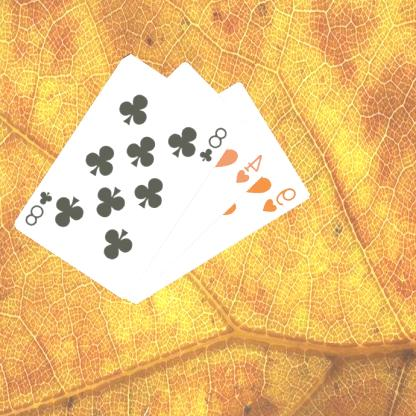4H: (235, 151, 266, 185)
8C: (198, 124, 231, 164), (24, 187, 56, 228)
9H: (262, 185, 300, 214)
